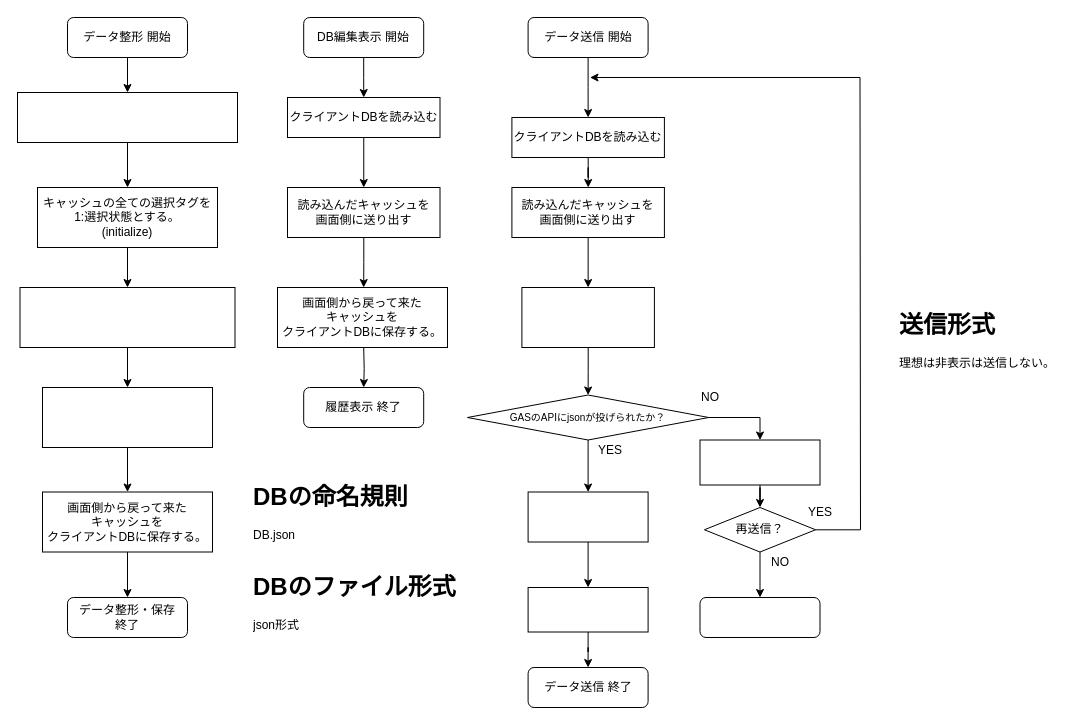
This 1085x725 diagram has some shape labels left out. Here are the shapes that lost their labels. From the top down, the centre of each, then its label:
At (x=127, y=117): "キャッシュ(json)と、 クライアント内DB(json)より 重複データの行を検出する。".
At (x=127, y=317): "キャッシュの重複データの選択タグを 0:非選択にした状態 とする。".
At (x=587, y=317): "json型, Strings型に変換".
At (x=127, y=417): "キャッシュを画面側に 送り出す".
At (x=759, y=462): "エラー内容を 表示".
At (x=587, y=516): "送信出来た旨を 画面側に送る".
At (x=587, y=609): "nヶ月以前の DBファイルを削除".
At (x=759, y=617): "データ送信 異常終了".
